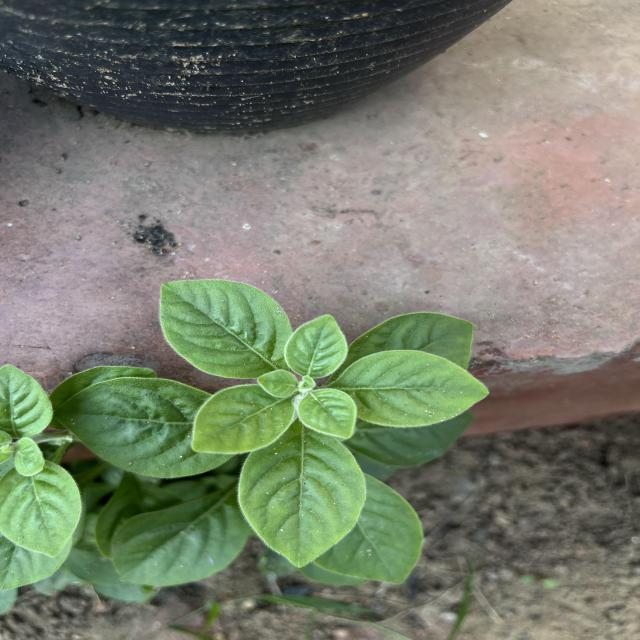Aerva lanata: (49, 373, 238, 481), (234, 426, 370, 569), (154, 276, 296, 382), (329, 348, 492, 432), (281, 311, 351, 381), (296, 385, 360, 442)
